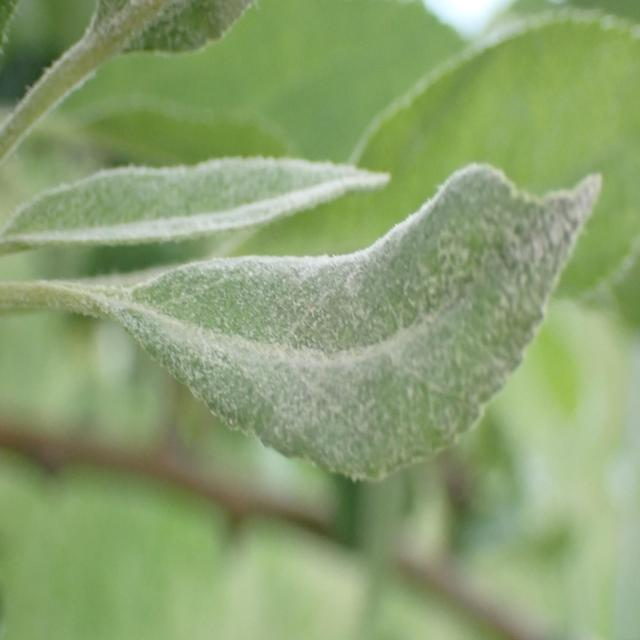Powdery_mildew: (66, 170, 604, 495), (6, 0, 280, 175), (0, 152, 396, 256)
